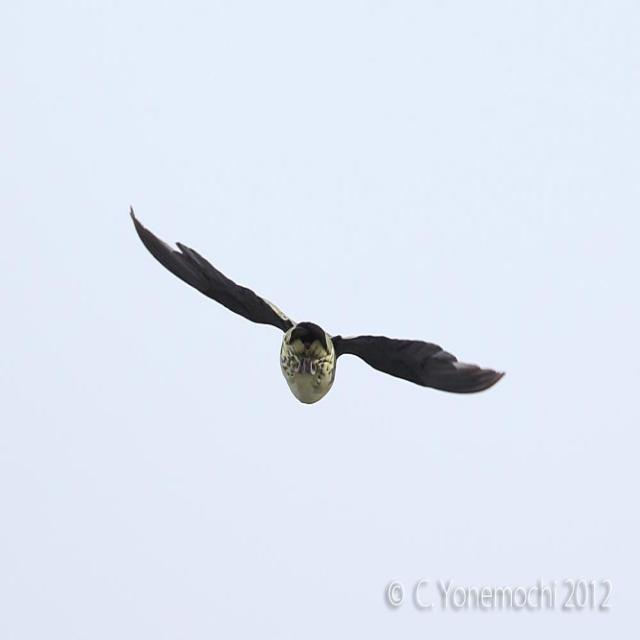bird: (123, 206, 509, 420)
